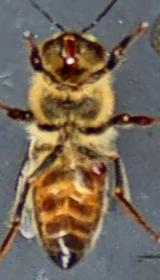varroa_mite: (82, 150, 114, 184)
